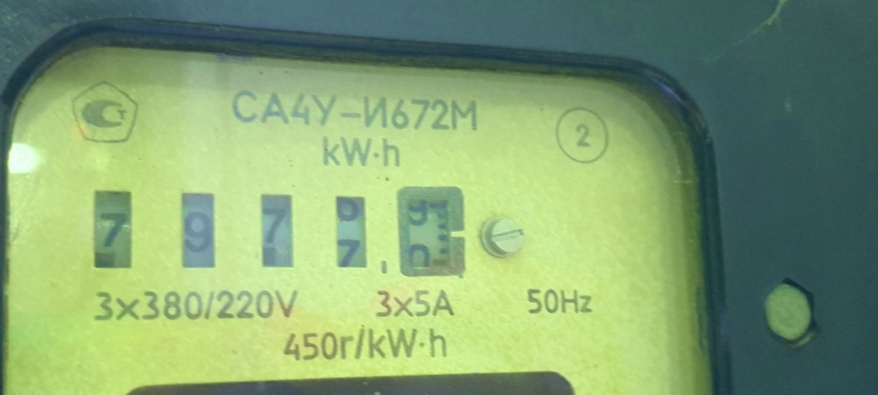0: (407, 239, 432, 270)
7: (95, 207, 131, 253), (334, 230, 366, 272), (261, 204, 291, 246)
9: (181, 208, 214, 256), (404, 196, 435, 229)
screen: (78, 162, 484, 306)
